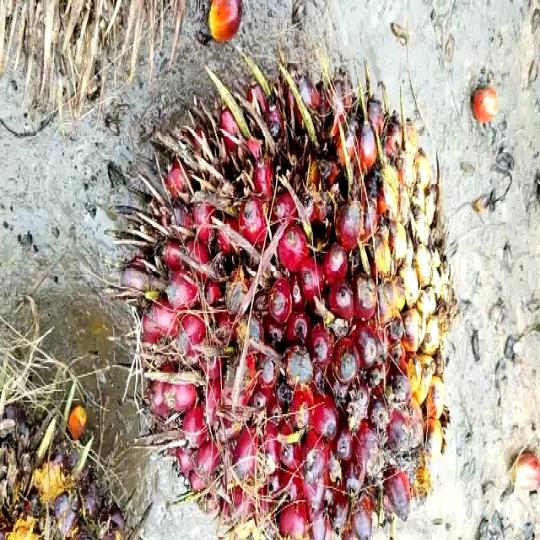kurang masak: (132, 62, 462, 540)
